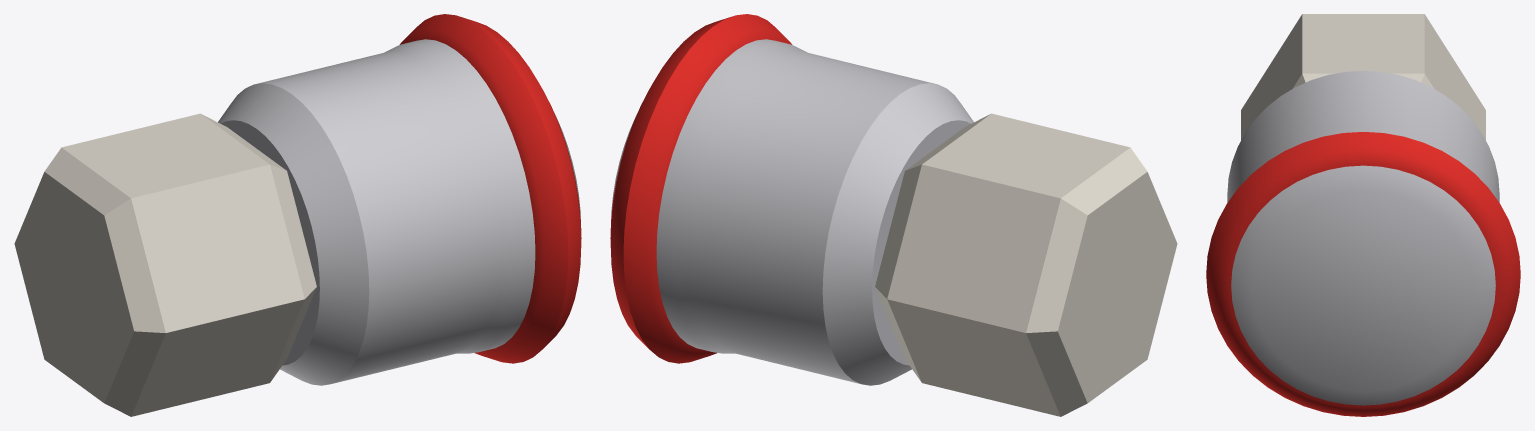
Rendered from fitting_adp_22x12_F_r.glb.
3 views of the same model, side by side, from view 1: azimuth 30°, elevation 25°; view 2: azimuth 150°, elevation 25°; view 3: azimuth 270°, elevation 25° (orthographic). The views are drawn at different scales.
Parts seen in each view (by area): view 1: раструб, шестигранник переходника, кольцо пресс; view 2: раструб, шестигранник переходника, кольцо пресс; view 3: раструб, кольцо пресс, шестигранник переходника.
Part boxes in pixels (x1=…): раструб: x1=218, y1=39, x2=580, y2=385; шестигранник переходника: x1=14, y1=113, x2=316, y2=416; кольцо пресс: x1=399, y1=14, x2=581, y2=363; раструб: x1=611, y1=39, x2=973, y2=385; шестигранник переходника: x1=875, y1=113, x2=1177, y2=416; кольцо пресс: x1=610, y1=14, x2=792, y2=363; раструб: x1=1227, y1=70, x2=1499, y2=405; кольцо пресс: x1=1206, y1=132, x2=1520, y2=416; шестигранник переходника: x1=1241, y1=14, x2=1485, y2=140.
Size of the model in its own units: 0.051 by 0.0356 by 0.0356.
